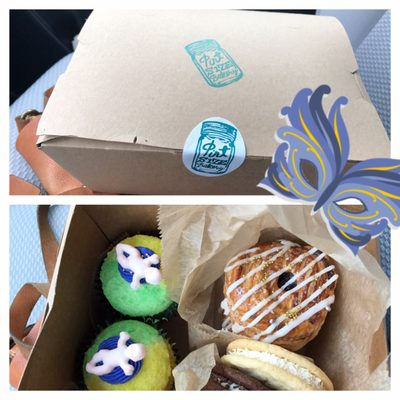soup: (221, 238, 339, 352), (211, 338, 334, 389)
